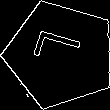L_E: (31, 33, 90, 77)
